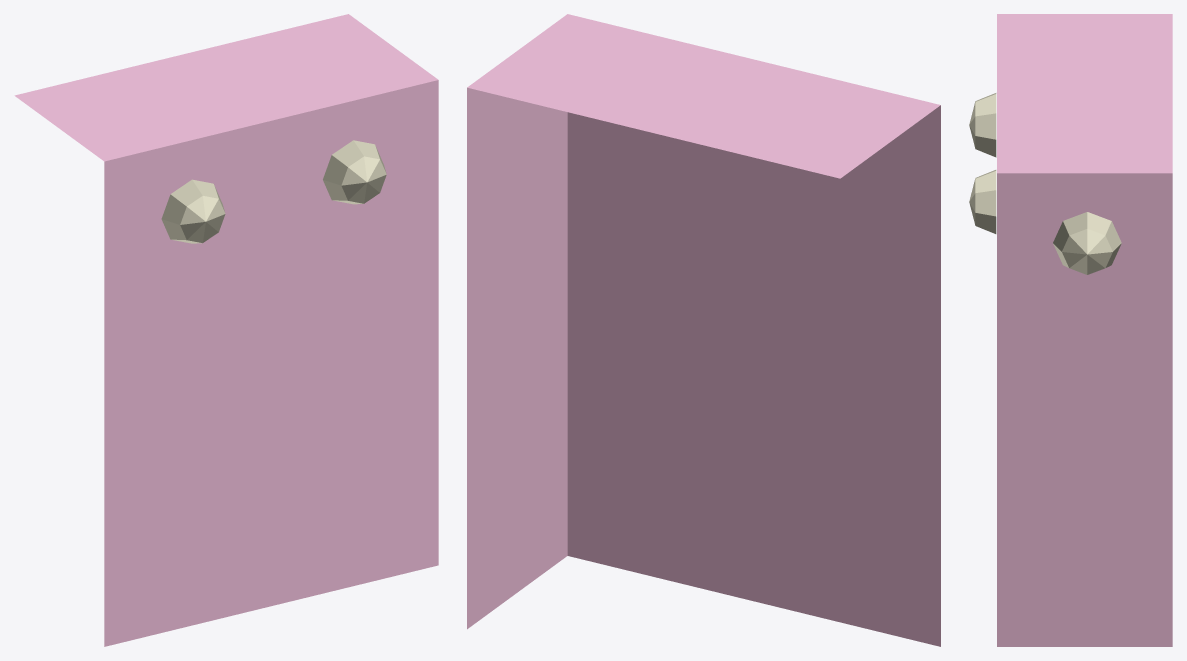
The picture shows the model from 3 angles, left to right: view 1: azimuth 30°, elevation 25°; view 2: azimuth 150°, elevation 25°; view 3: azimuth 270°, elevation 25°; orthographic projection. The views are drawn at different scales.
Visible parts, largest first — view 1: Object26; view 2: Object26; view 3: Object26.
Boxes of the visible parts, <box> form: Object26: <box>14,14,438,646</box>; Object26: <box>467,14,940,646</box>; Object26: <box>969,14,1172,646</box>.
Size of the model in its own units: 322 by 416 by 162.
